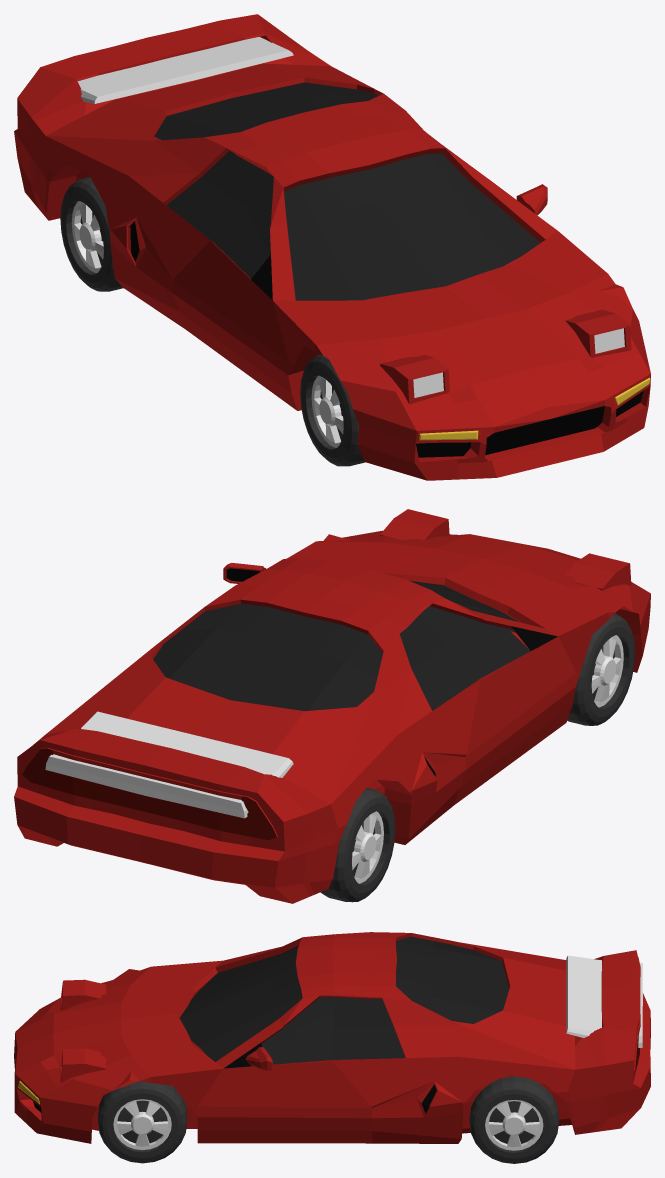
The model's file is Honda NSX.fbx.
3 views of the same model, one above another, from view 1: azimuth 30°, elevation 25°; view 2: azimuth 150°, elevation 25°; view 3: azimuth 270°, elevation 25° (orthographic). The views are drawn at different scales.
Visible parts, largest first — view 1: Куб.011, Куб.012, Куб.017, Куб.018, Куб.013; view 2: Куб.011, Куб.012, Куб.018, Куб.017, Куб.013, Куб.014; view 3: Куб.011, Куб.016, Куб.015, Куб.012, Куб.013, Куб.014.
Boxes of the visible parts, <box> form: Куб.011: <box>14,14,650,480</box>; Куб.012: <box>77,37,293,103</box>; Куб.017: <box>300,354,365,466</box>; Куб.018: <box>60,177,123,291</box>; Куб.013: <box>380,309,631,404</box>; Куб.011: <box>14,530,650,903</box>; Куб.012: <box>45,711,293,818</box>; Куб.018: <box>320,787,395,902</box>; Куб.017: <box>567,613,635,725</box>; Куб.013: <box>380,509,631,590</box>; Куб.014: <box>223,563,266,583</box>; Куб.011: <box>14,932,650,1143</box>; Куб.016: <box>469,1076,558,1163</box>; Куб.015: <box>98,1081,187,1163</box>; Куб.012: <box>566,955,642,1047</box>; Куб.013: <box>60,979,106,1082</box>; Куб.014: <box>245,1047,272,1070</box>.
Bounding box in the file's own units: 165 × 99.5 × 372.
